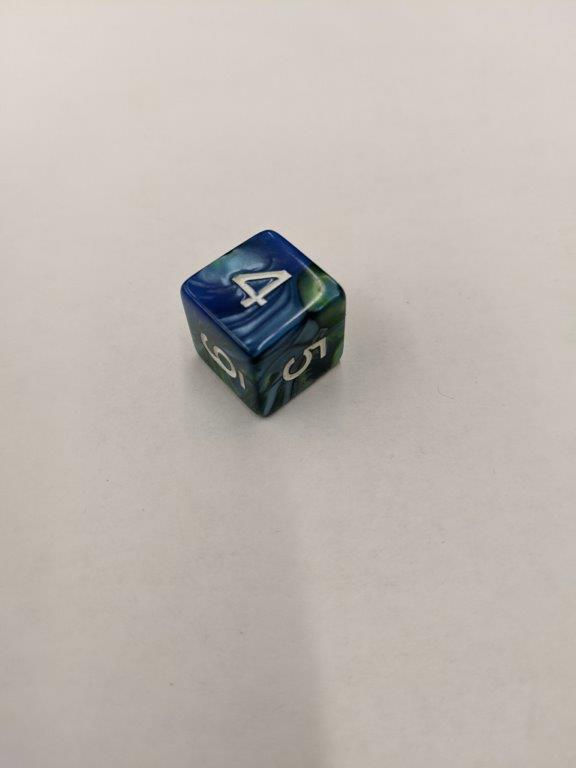d6-4: (179, 227, 347, 424)
